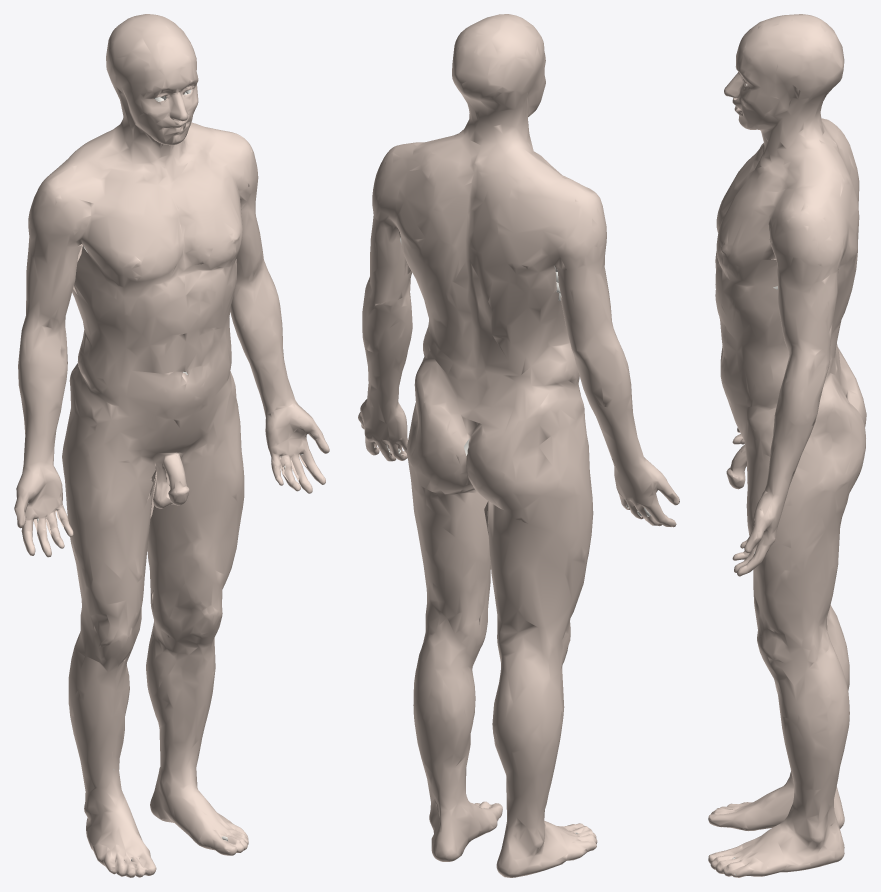
File: skeleton.glb
The picture shows the model from 3 angles, left to right: view 1: azimuth 30°, elevation 25°; view 2: azimuth 150°, elevation 25°; view 3: azimuth 270°, elevation 25°; orthographic projection. The views are drawn at different scales.
Visible parts, largest first — view 1: skin; view 2: skin; view 3: skin.
Part boxes in pixels (x1,y1,x2,y2): skin: [14, 14, 329, 877]; skin: [358, 14, 679, 877]; skin: [708, 14, 866, 877].
Bounding box in the file's own units: 0.6585 × 1.66 × 0.287.
